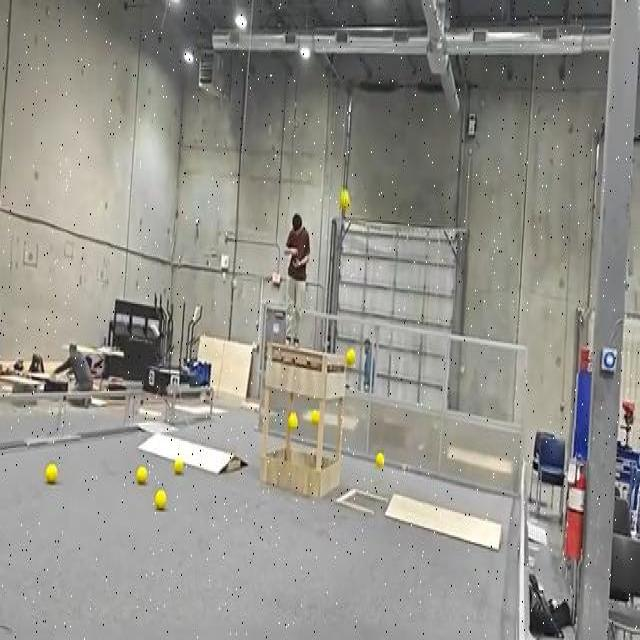Fuel: (154, 489, 167, 510), (155, 489, 167, 510), (45, 463, 57, 484), (45, 462, 57, 482), (339, 188, 349, 210), (340, 188, 350, 210), (136, 466, 148, 484), (136, 466, 147, 484), (346, 348, 356, 366), (288, 412, 298, 430), (346, 348, 355, 366), (287, 412, 297, 428), (174, 458, 184, 474), (376, 452, 384, 468), (375, 452, 384, 466), (174, 459, 183, 473), (311, 410, 320, 424), (311, 409, 319, 423)
